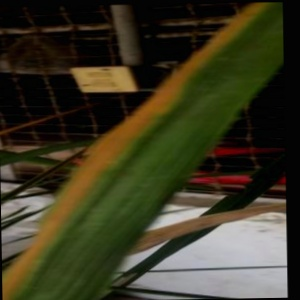Leaf_Blast: (35, 156, 170, 300)
